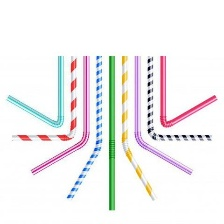drinking_straw: (156, 52, 221, 130), (5, 53, 67, 130), (106, 53, 119, 213)
